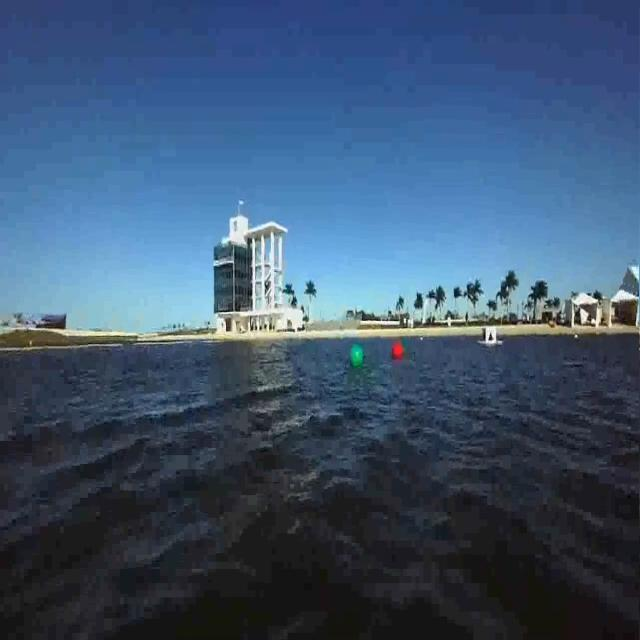green-buoy: (349, 343, 365, 370)
red-buoy: (392, 342, 403, 362)
